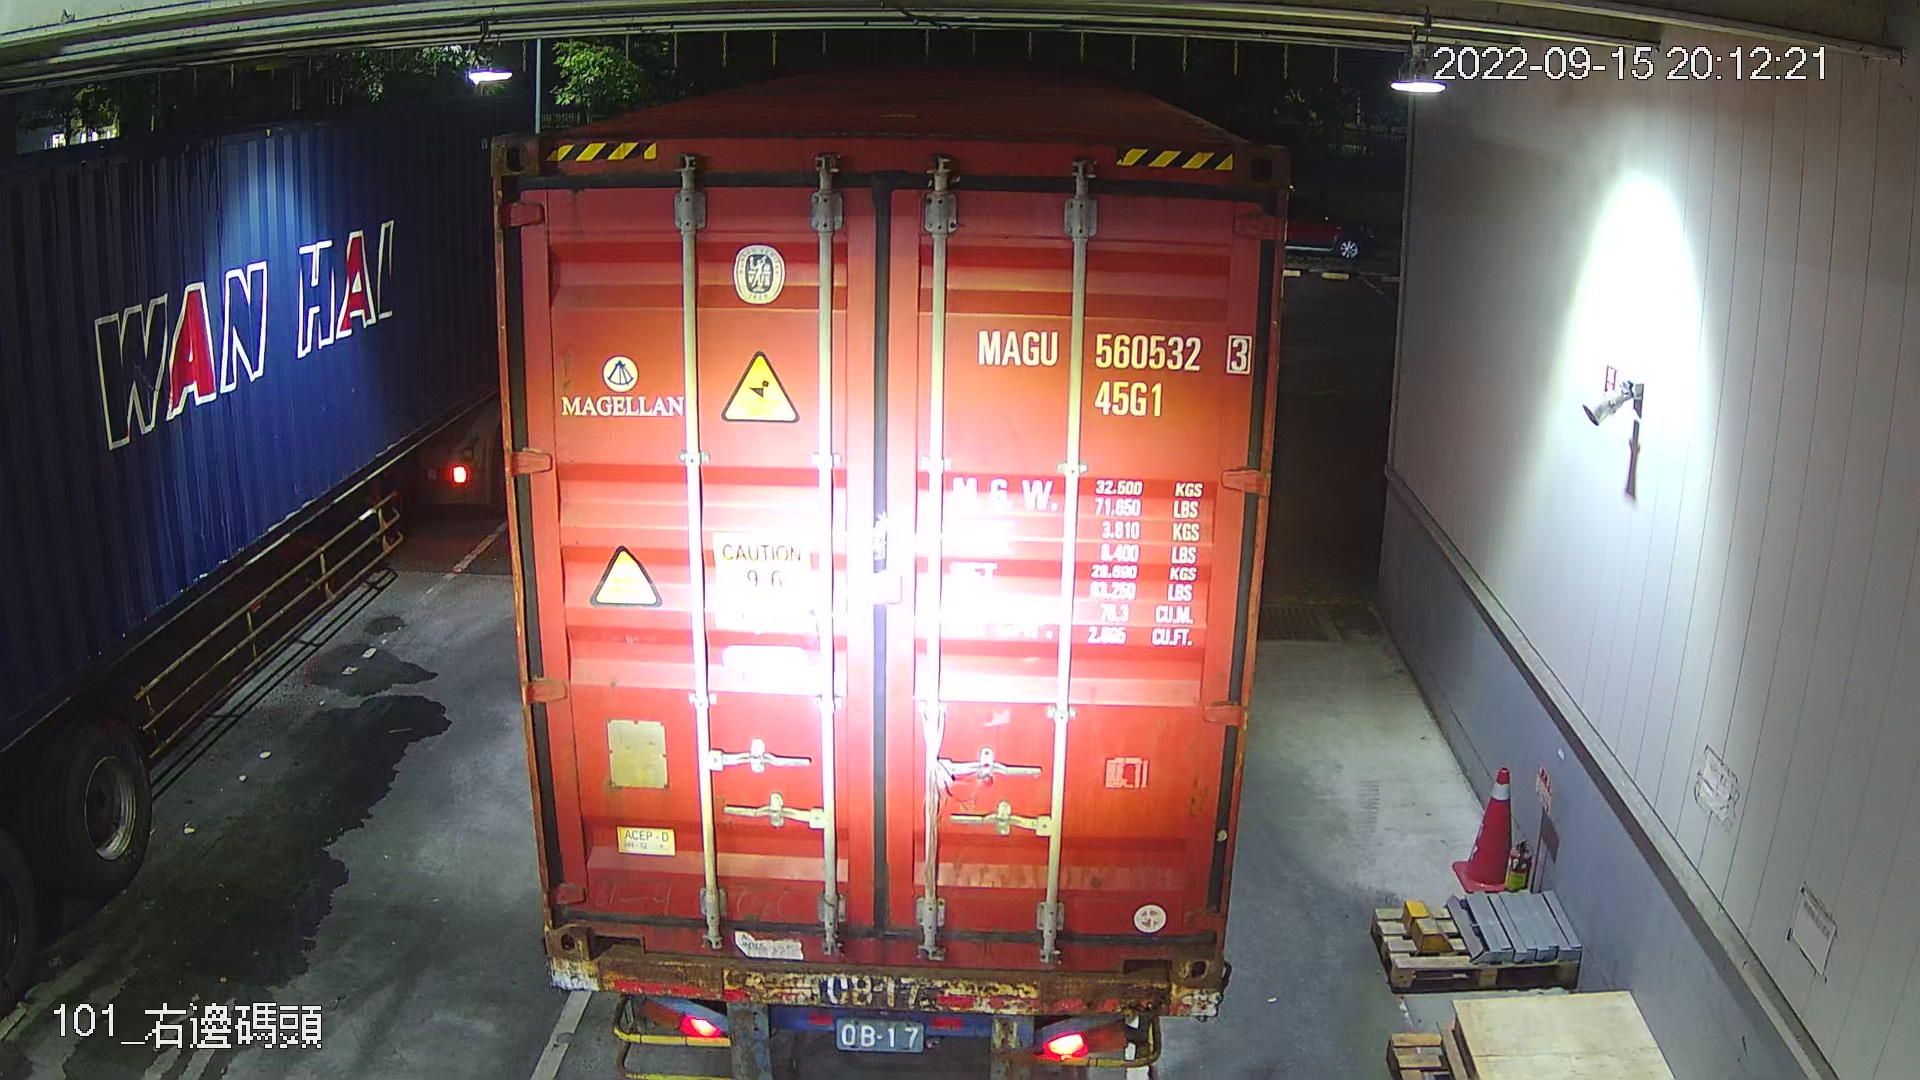container: (963, 316, 1259, 425)
